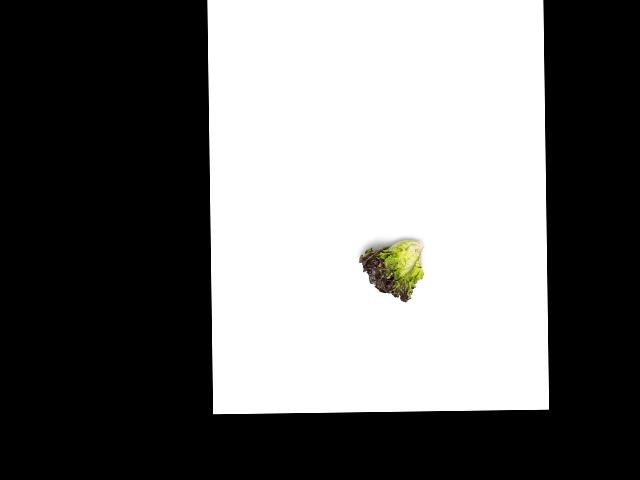lettuce: (354, 239, 426, 301)
